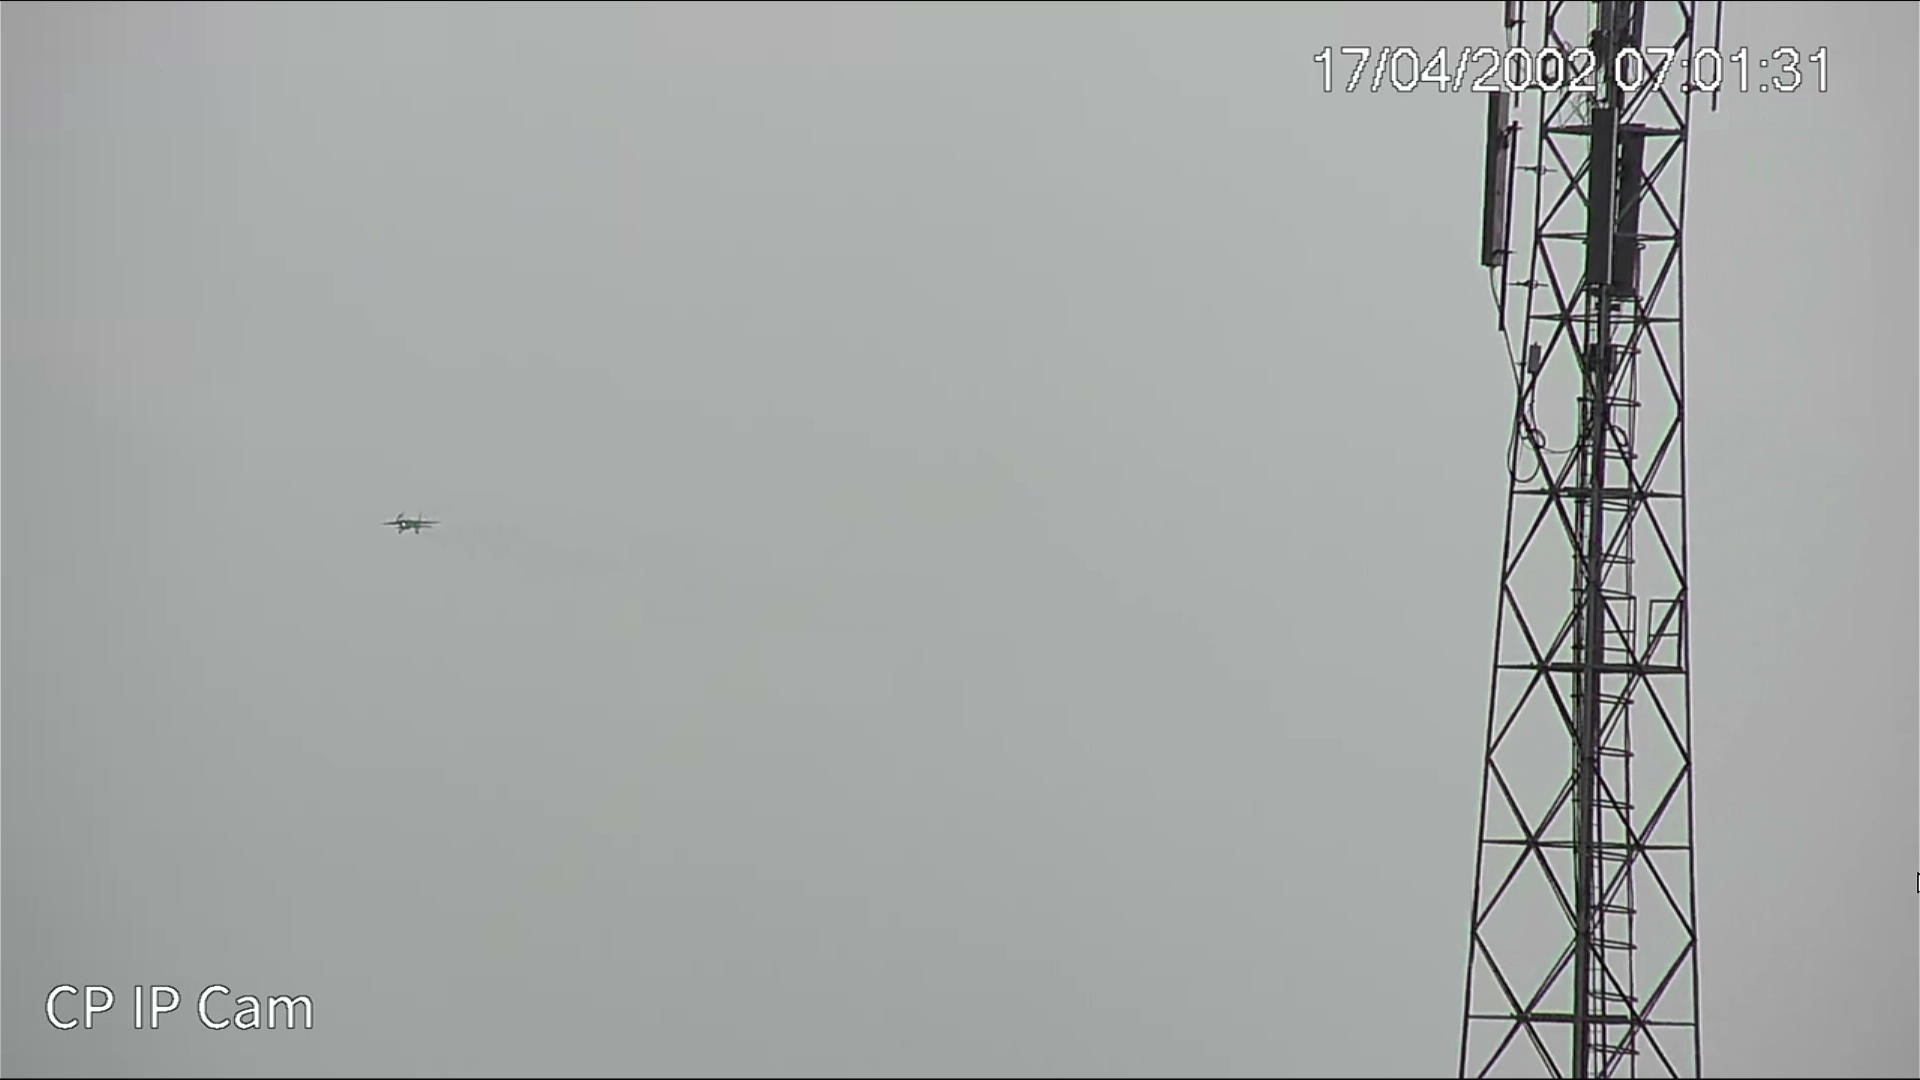SU_30: (382, 512, 436, 535)
